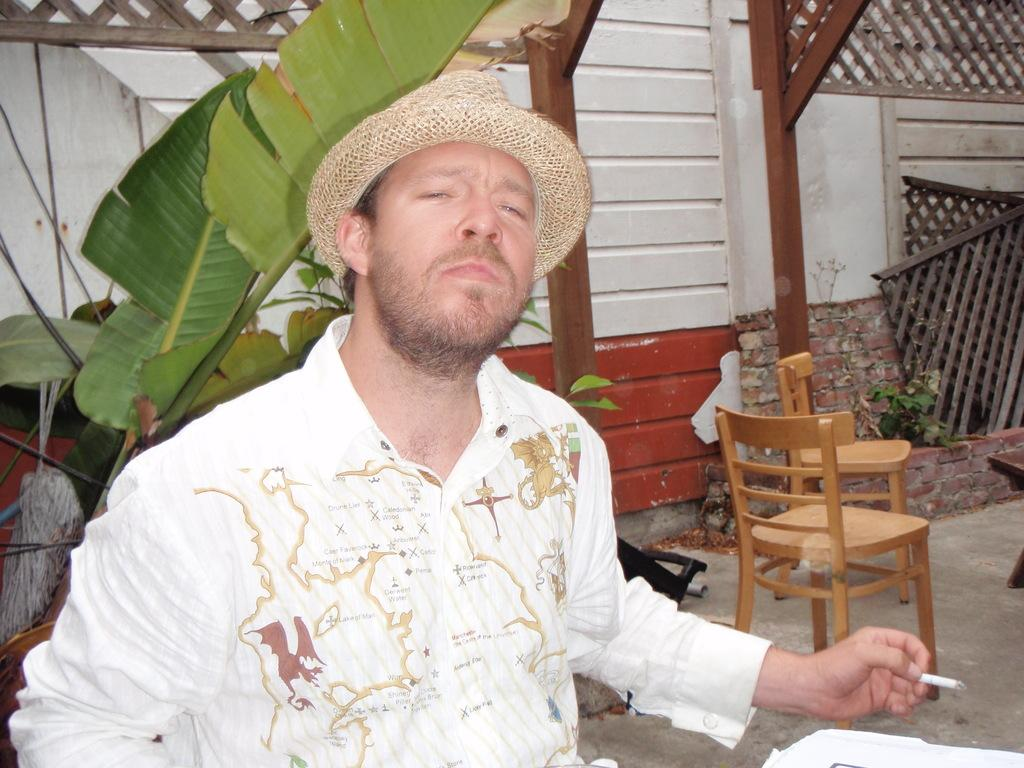Hat: (305, 66, 590, 282)
